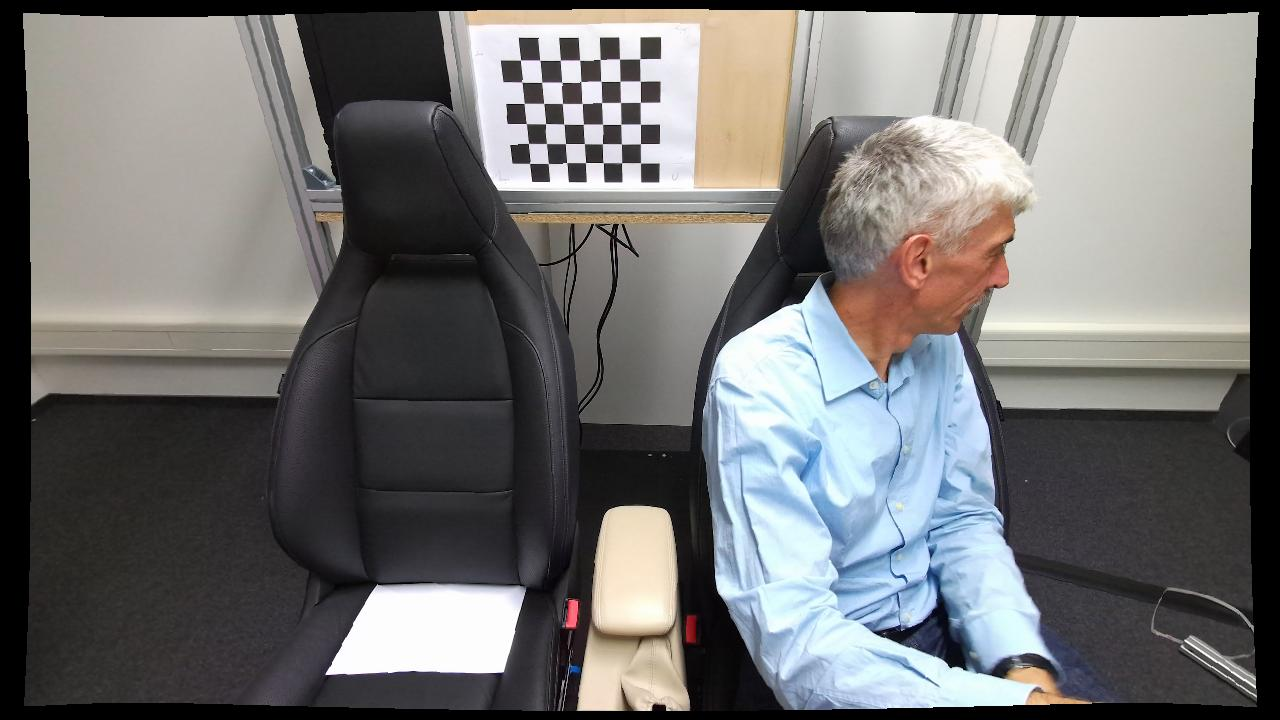Distracted: (702, 104, 1090, 709)
